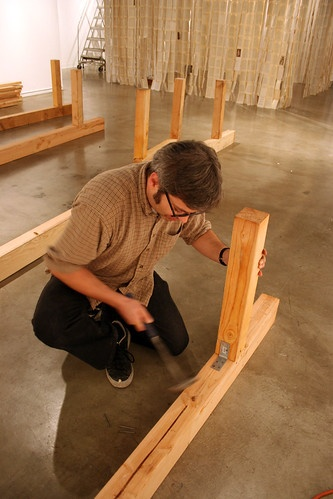hammer: (145, 327, 203, 394)
